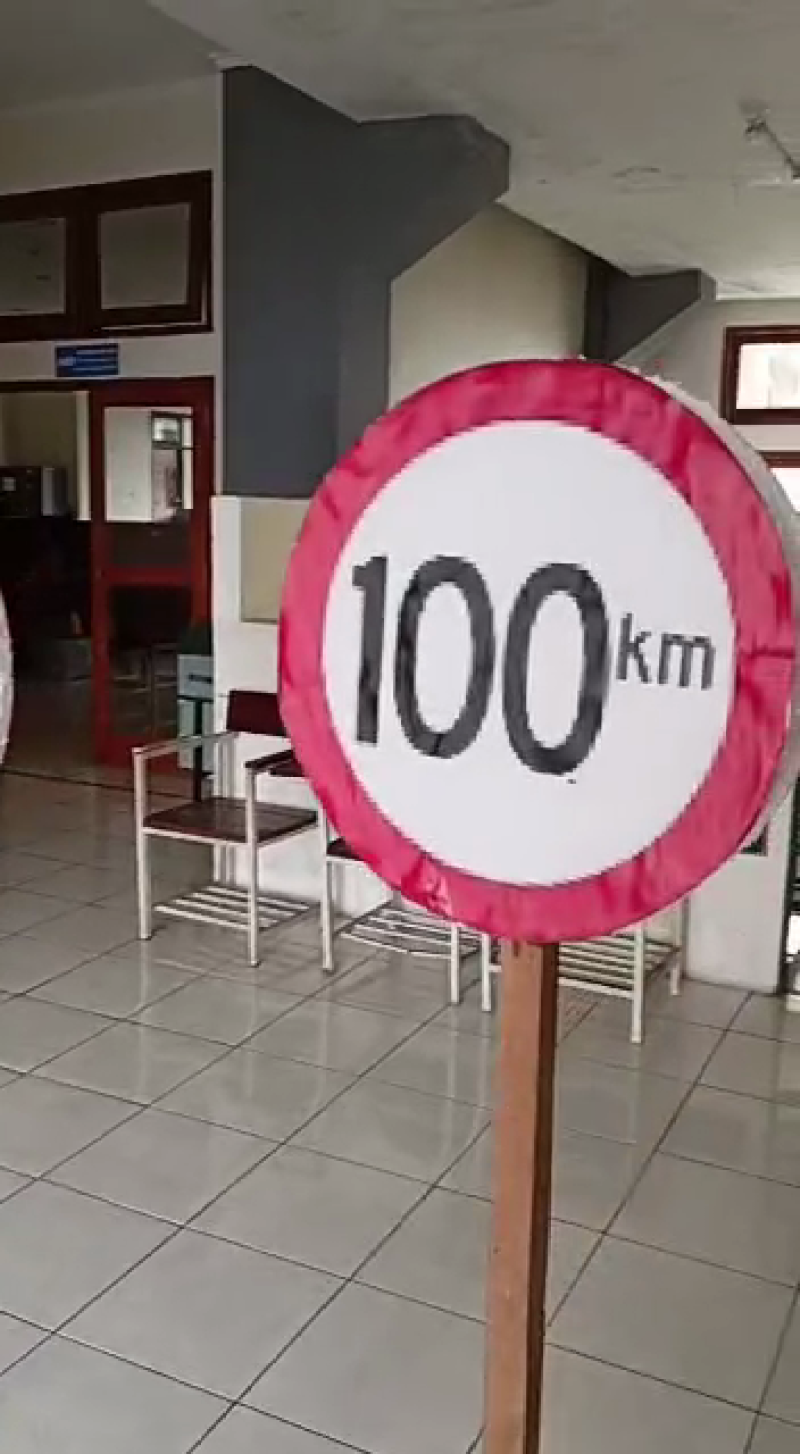batas maksimal 100kmperjam: (259, 348, 800, 956)
